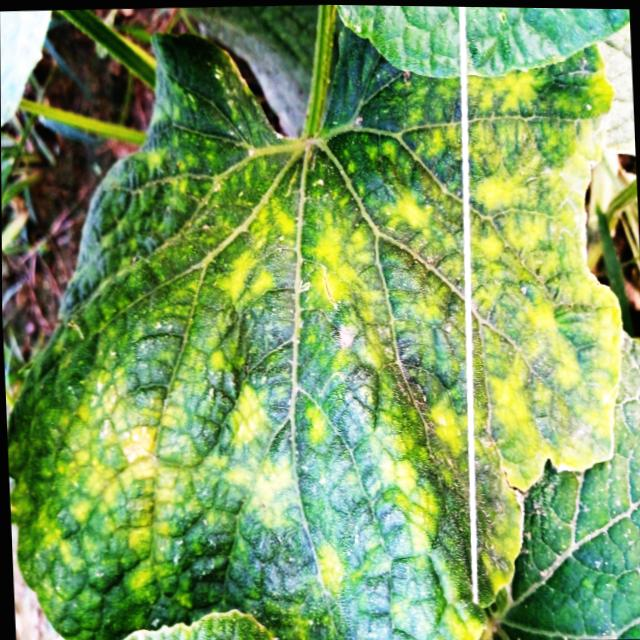Downy-Mildew: (7, 27, 623, 640)
